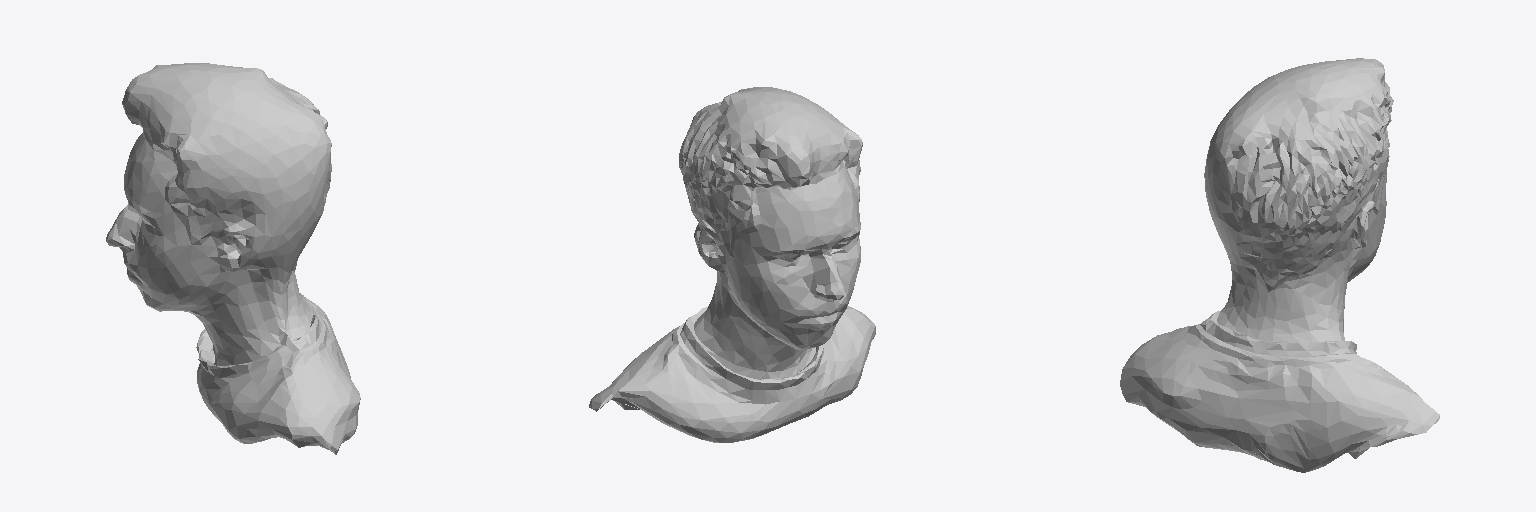
Rendered from lee.obj.
3 renders of one model, left to right at view 1: azimuth 30°, elevation 25°; view 2: azimuth 150°, elevation 25°; view 3: azimuth 270°, elevation 25°, orthographic.
Visible parts, largest first — view 1: lee.1; view 2: lee.1; view 3: lee.1.
Part boxes in pixels (bbox=[...]): lee.1: bbox=[106, 63, 360, 454]; lee.1: bbox=[589, 87, 875, 442]; lee.1: bbox=[1120, 58, 1439, 472].
Size of the model in its own units: 189 by 278 by 231.